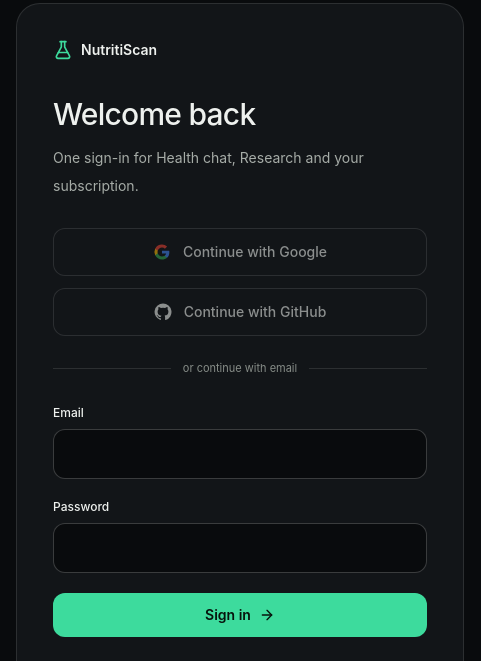
shared account and subscription experience › uses the existing account service and reports incorrect credentials
The image size is (481, 661).
In the field labelled "Email": (240, 454) 53,428 -> 427,478, type "synthetic@example.com"
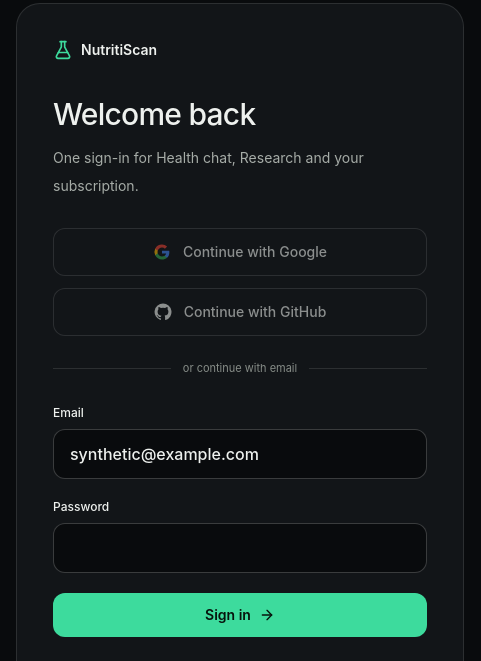
In the password field labelled "Password": (240, 548) 53,522 -> 427,572, type "synthetic-password-123"
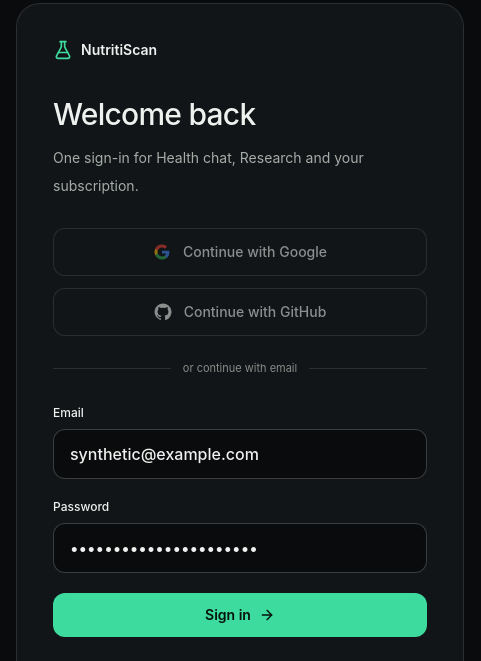
Click the button "Sign in": (240, 614) 53,592 -> 427,636
(page scrolled)
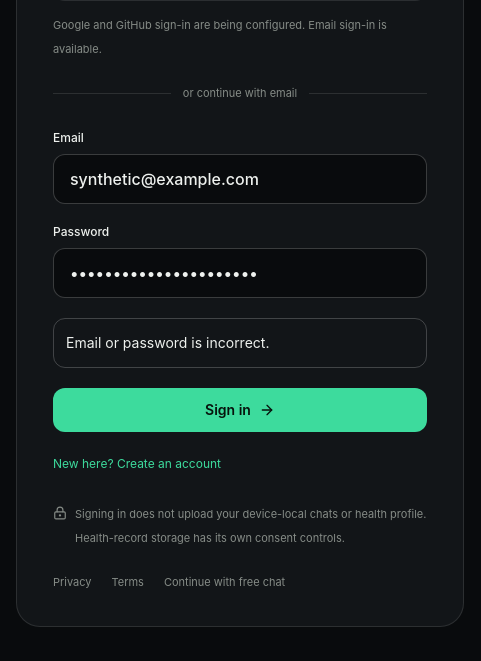
Expected: the message reads "Email or password is incorrect.", 66,334 -> 269,350
